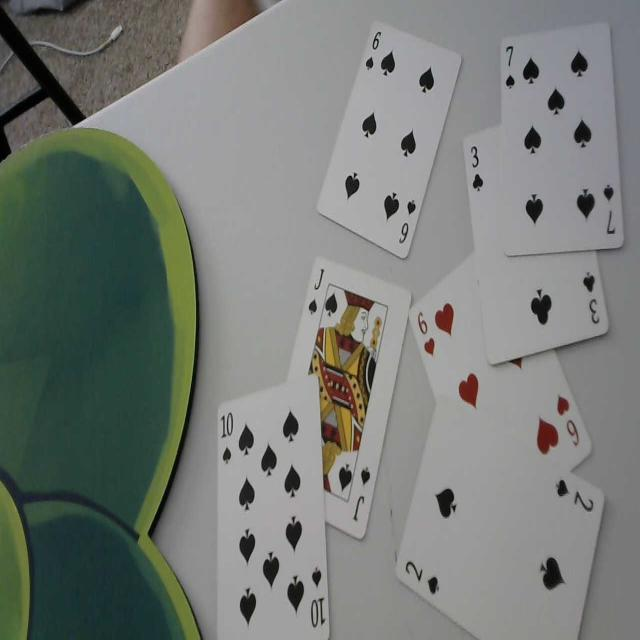10S: (308, 563, 328, 630), (218, 409, 238, 467)
2S: (403, 549, 445, 600), (553, 473, 599, 518)
3C: (580, 266, 602, 330), (466, 141, 486, 194)
6H: (554, 388, 584, 451), (416, 309, 436, 363)
6S: (397, 193, 417, 250), (362, 20, 382, 76)
7S: (601, 179, 619, 238), (503, 40, 519, 95)
JS: (352, 454, 372, 535), (305, 256, 327, 318)
